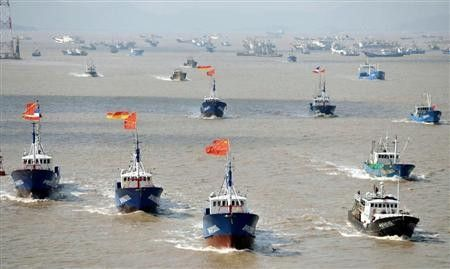otherboat: (200, 152, 262, 250), (105, 117, 166, 216), (342, 169, 422, 238), (8, 105, 61, 205), (359, 133, 414, 180), (198, 75, 227, 122), (307, 78, 337, 118), (410, 95, 446, 126), (357, 56, 388, 81), (168, 69, 191, 83)
